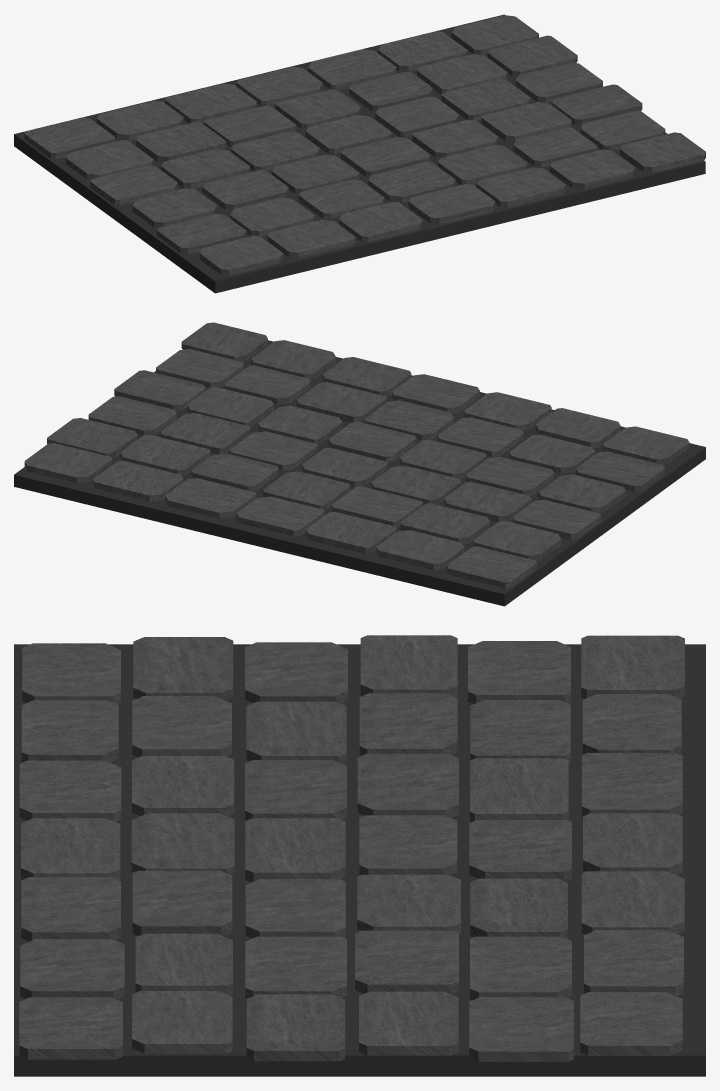
File: forecourt_active.glb
The picture shows the model from 3 angles, top to bottom: view 1: azimuth 30°, elevation 25°; view 2: azimuth 150°, elevation 25°; view 3: azimuth 270°, elevation 25°; orthographic projection. The views are drawn at different scales.
Visible parts, largest first — view 1: Paving; view 2: Paving; view 3: Paving.
Part boxes in pixels (left/top/right/bottom): Paving: left=14, top=14, right=705, bottom=293; Paving: left=14, top=322, right=705, bottom=606; Paving: left=14, top=635, right=705, bottom=1076.
Bounding box in the file's own units: 4.31 × 0.1519 × 3.02.
2 materials, 1 textured.
